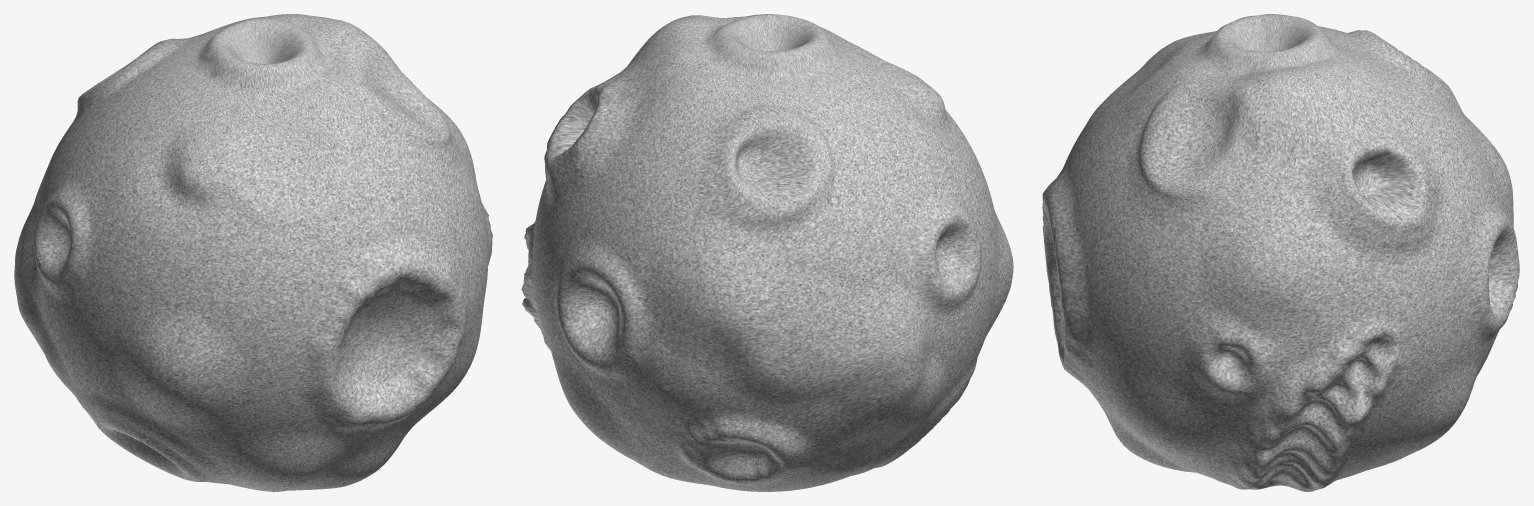
Rendered from Planet.FBX.
The picture shows the model from 3 angles, left to right: view 1: azimuth 30°, elevation 25°; view 2: azimuth 150°, elevation 25°; view 3: azimuth 270°, elevation 25°; orthographic projection.
Parts seen in each view (by area): view 1: Sphere001; view 2: Sphere001; view 3: Sphere001.
Boxes of the visible parts, x1,y1,x2,y2 form: Sphere001: [14, 14, 492, 491]; Sphere001: [521, 14, 1013, 491]; Sphere001: [1042, 14, 1519, 491].
Size of the model in its own units: 105 by 105 by 103.
Materials: 1 (1 with a texture image).
